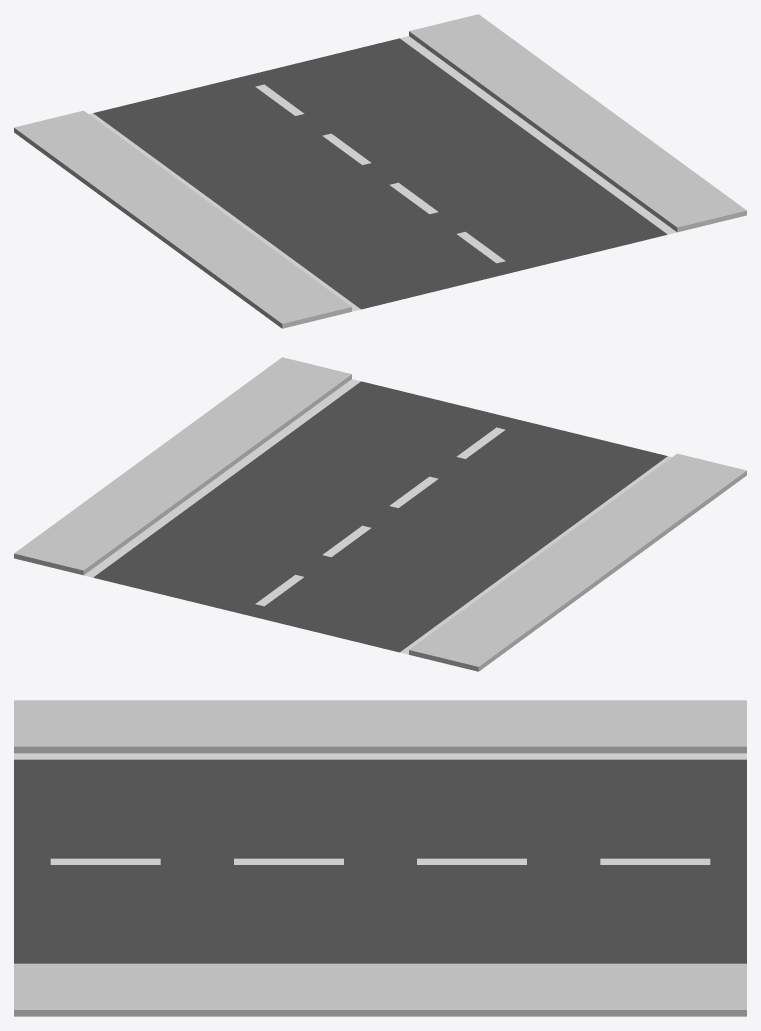
Rendered from road.glb.
The picture shows the model from 3 angles, top to bottom: view 1: azimuth 30°, elevation 25°; view 2: azimuth 150°, elevation 25°; view 3: azimuth 270°, elevation 25°; orthographic projection. The views are drawn at different scales.
Parts seen in each view (by area): view 1: Road Lane_01.033; view 2: Road Lane_01.033; view 3: Road Lane_01.033.
Boxes of the visible parts, x1,y1,x2,y2 form: Road Lane_01.033: [14, 14, 746, 328]; Road Lane_01.033: [14, 357, 746, 671]; Road Lane_01.033: [14, 700, 746, 1016].
Size of the model in its own units: 7.24 by 0.0724 by 7.24.
1 material, 1 textured.
